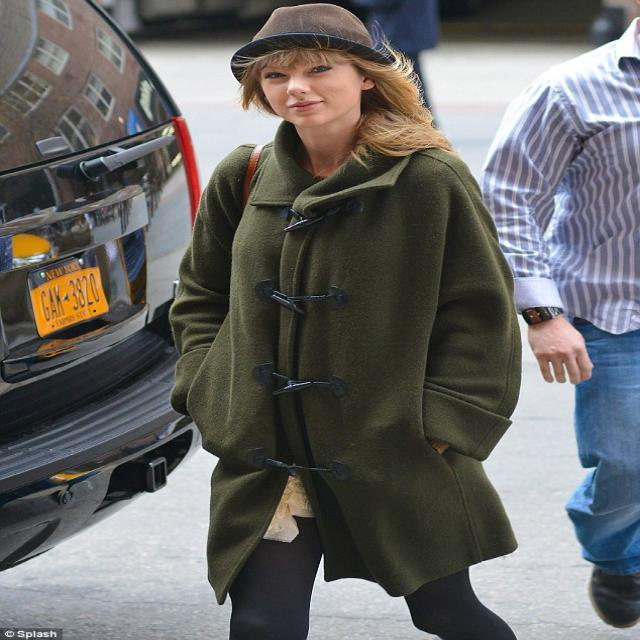coat: (161, 119, 524, 607)
trousers: (223, 466, 520, 640)
